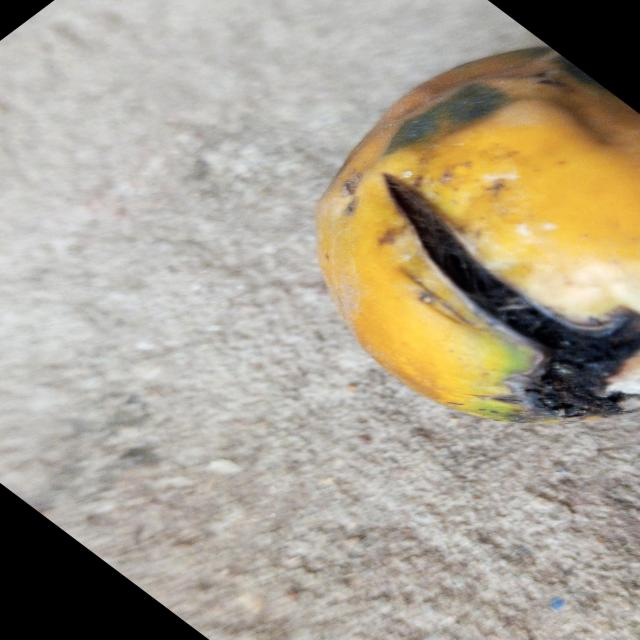damaged: (315, 47, 640, 423)
